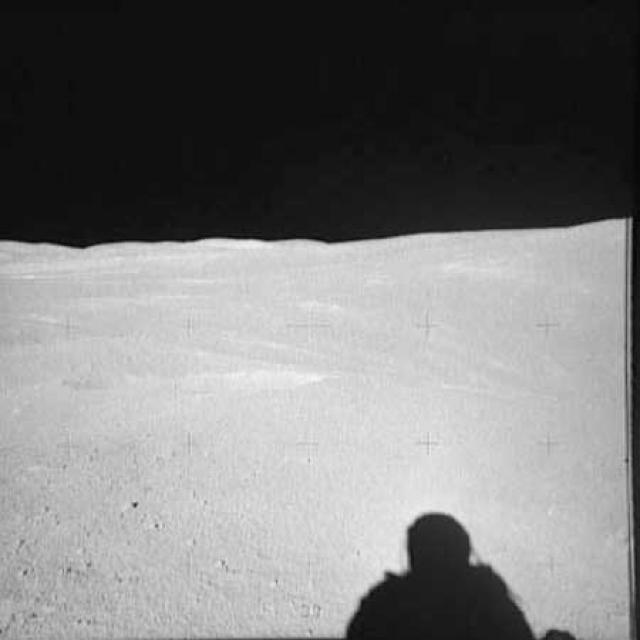crater: (158, 360, 343, 407), (58, 352, 165, 397)
